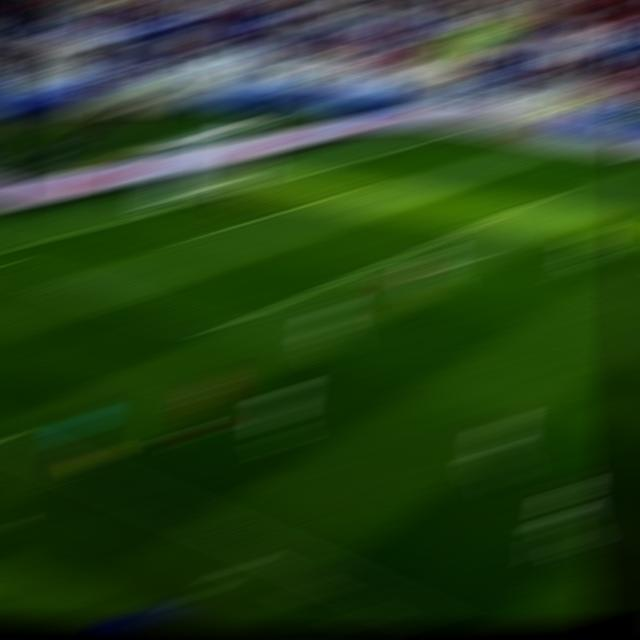bigarea_bottom_inner: (191, 320, 235, 340)
bigarea_top_inner: (536, 185, 574, 199)
bigarea_top_outter: (354, 151, 393, 160)
bottom_arc_area_intersection: (341, 262, 380, 278)
corner: (432, 130, 471, 139)
smallarea_bottom_inner: (168, 232, 207, 247)
smallarea_bottom_outter: (104, 213, 145, 226)
smallarea_top_inner: (325, 184, 370, 196)
smallarea_top_outter: (275, 171, 315, 183)
top_arc_area_intersection: (457, 218, 498, 230)
